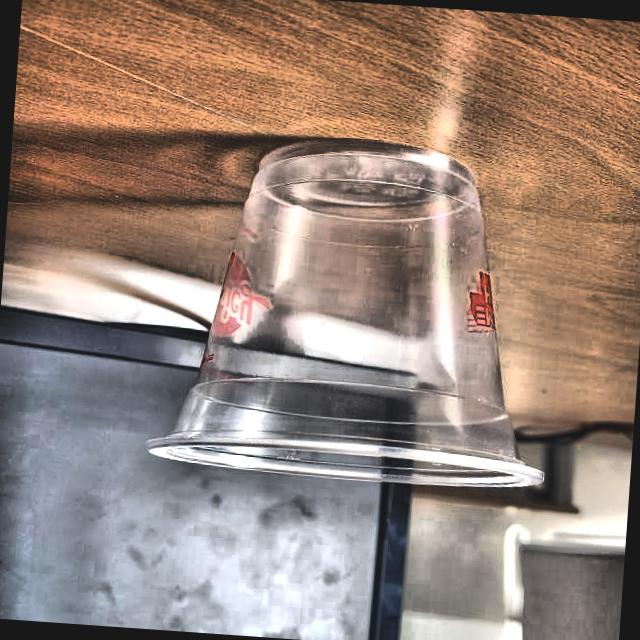plastic cup: (132, 124, 575, 498)
